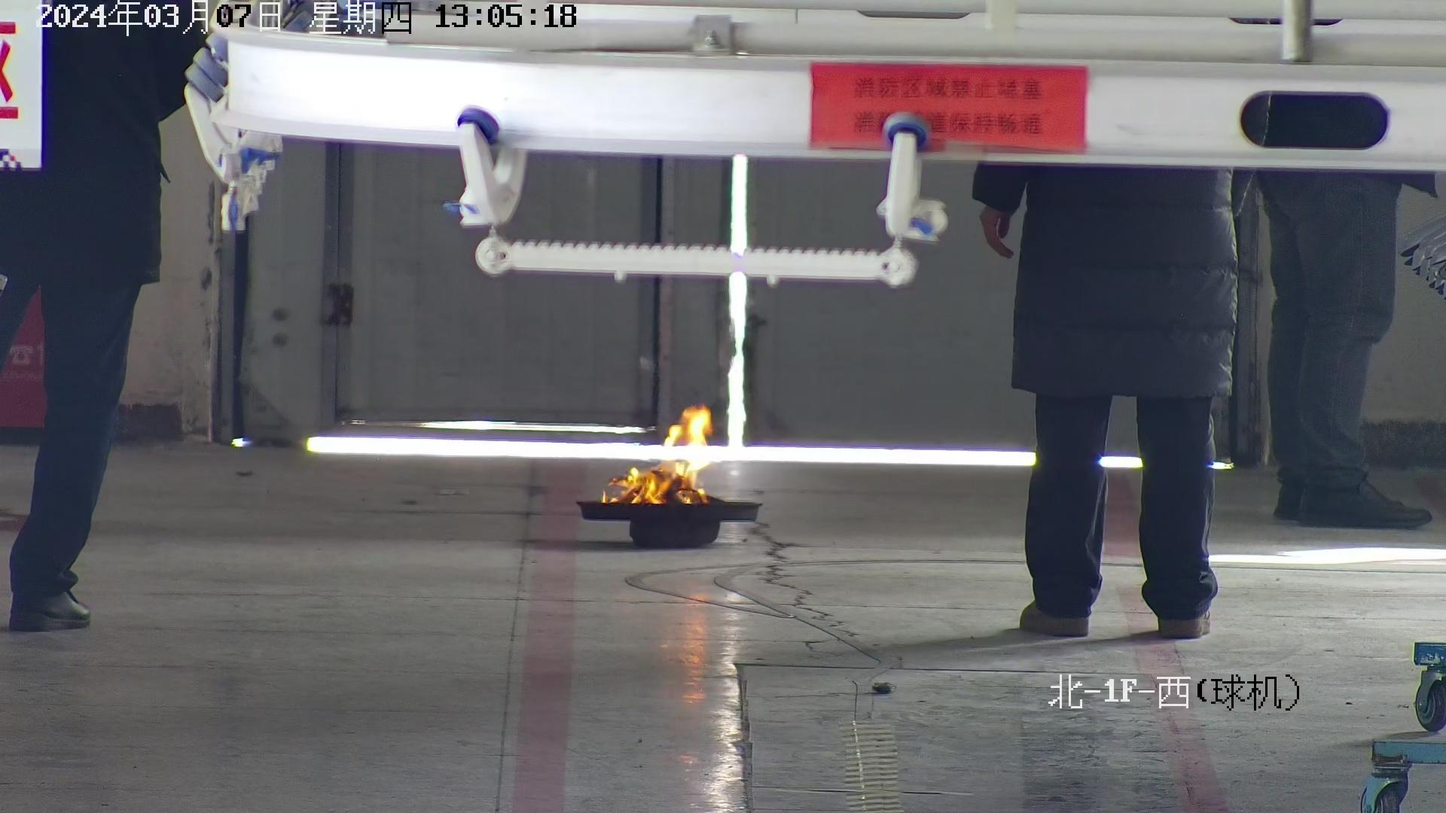fire: (607, 456, 709, 504), (663, 405, 712, 449)
